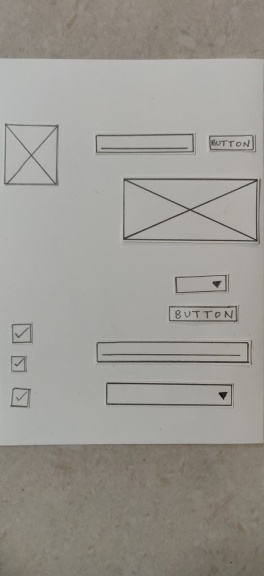button: (165, 306, 241, 322), (212, 136, 257, 151)
checkbox: (3, 385, 38, 410), (6, 319, 38, 344), (8, 351, 33, 374)
dropdown: (105, 372, 238, 413), (171, 273, 233, 298)
img: (118, 179, 258, 245), (5, 124, 60, 187)
text: (88, 337, 264, 368), (94, 132, 199, 154)
